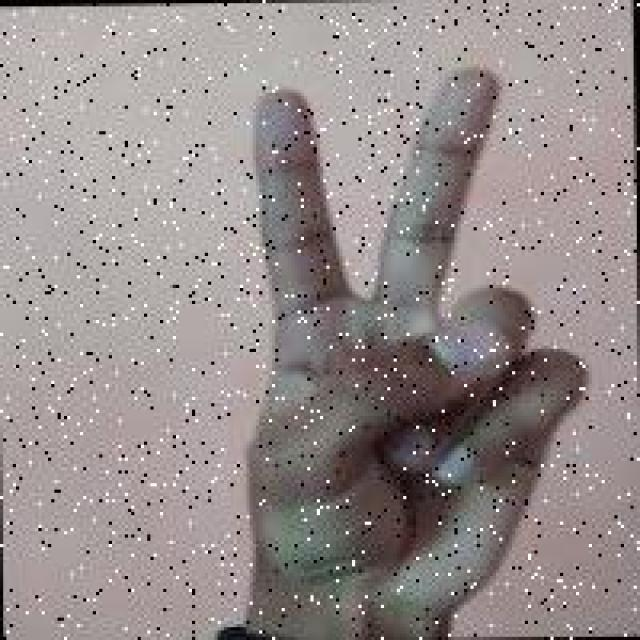V: (216, 58, 606, 611)
